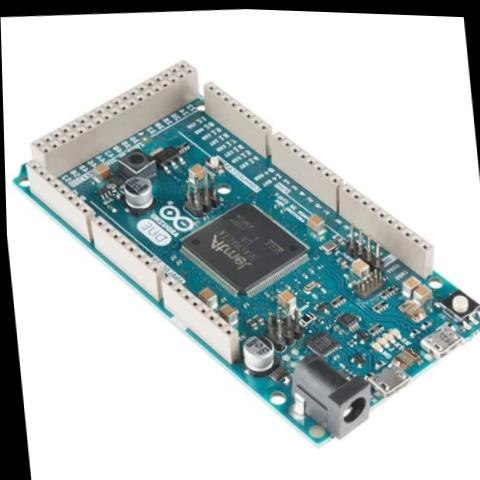Arduino-Due: (0, 19, 480, 473)
